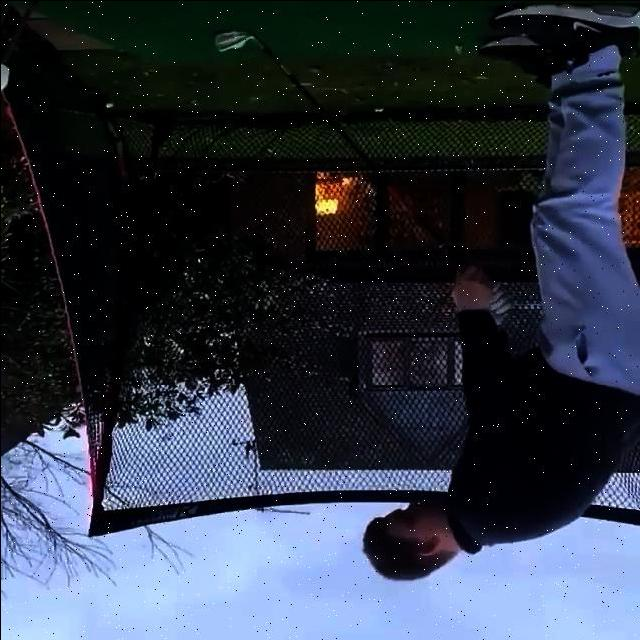ClubHandle: (213, 29, 511, 314)
ClubHead: (213, 29, 253, 51)
GolfBall: (230, 40, 246, 48)
